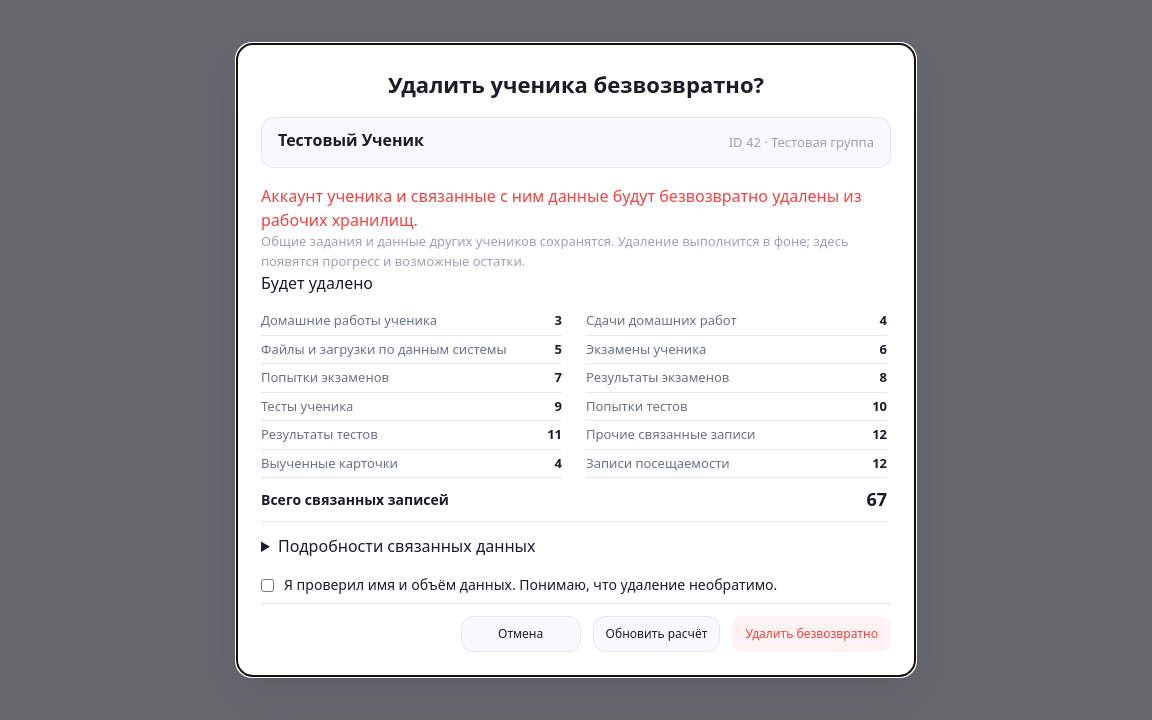
student deletion dialog › recovers an accepted job after a lost POST response
The width and height of the screenshot is (1152, 720).
Expected: the heading "Будет удалено" is shown, [261,272,373,294]
Click the checkbox: {"x": 268, "y": 586} [261,579,274,592]
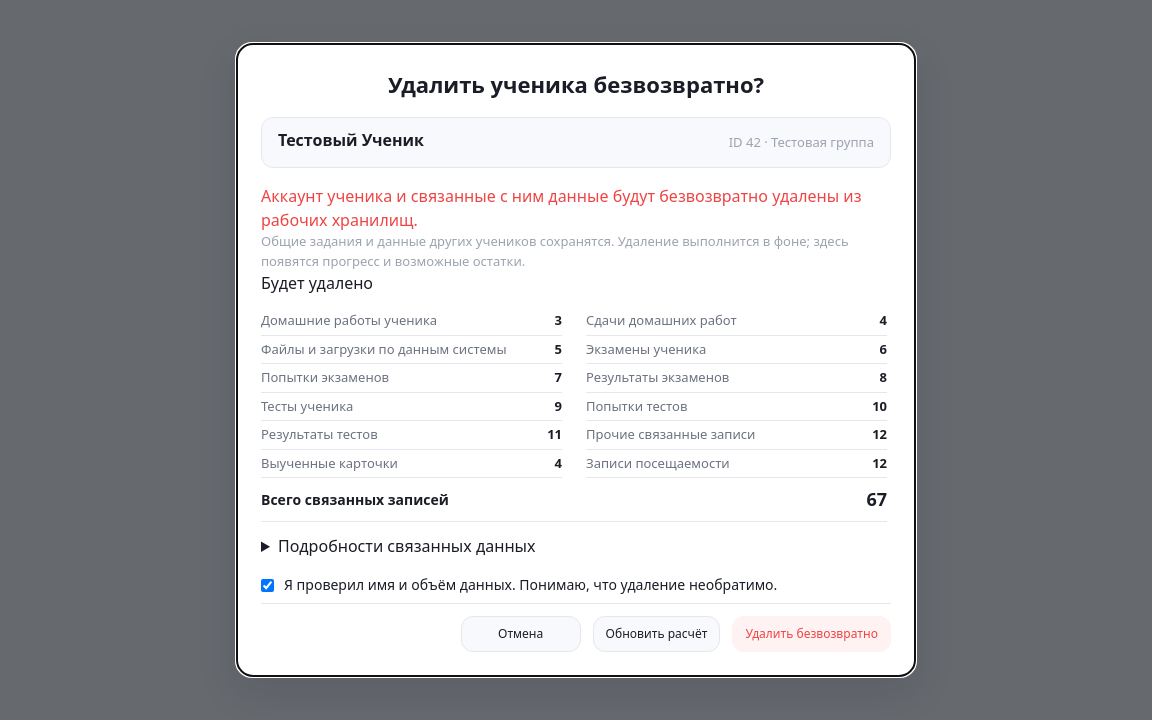
Click the button "Удалить безвозвратно": {"x": 812, "y": 634} [732,616,891,652]
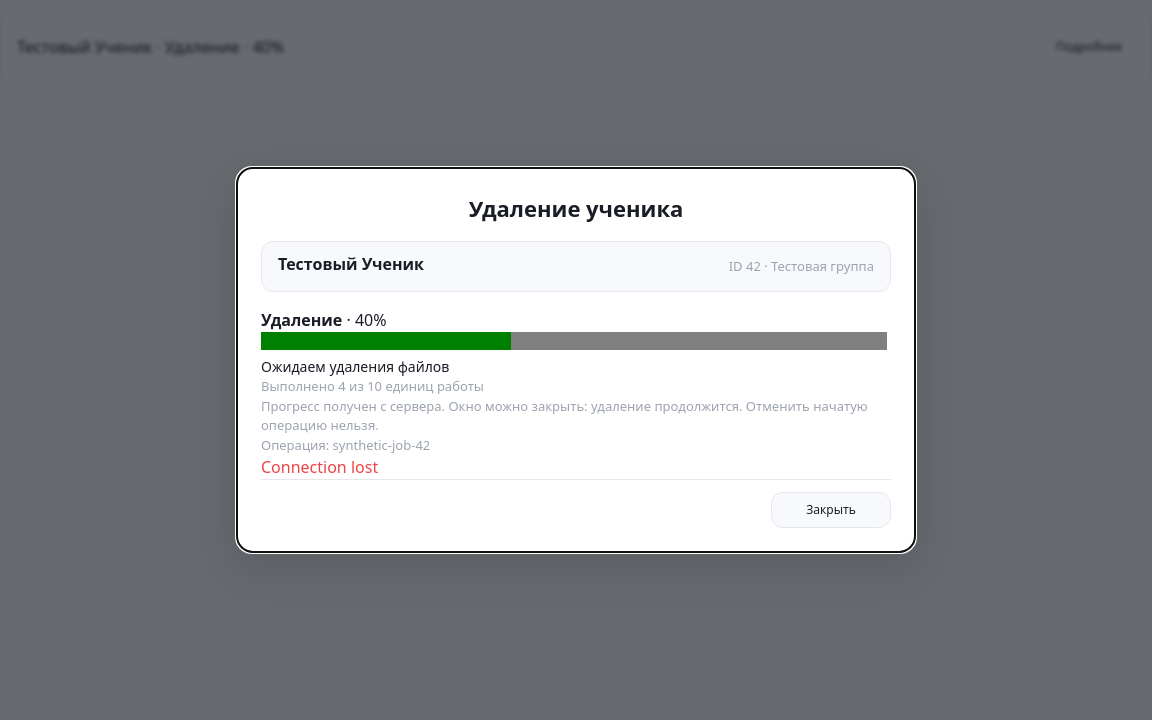
Expected: the text "Ожидаем удаления файлов" is shown, [261,357,449,376]
